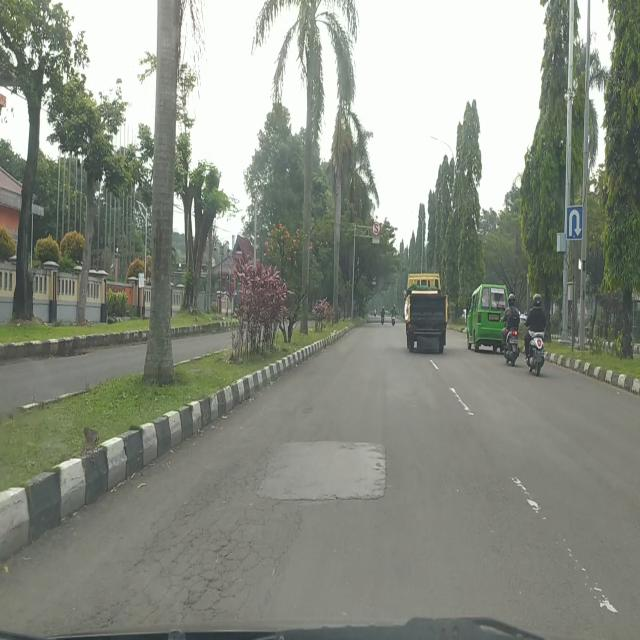Drain Hole: (88, 458, 294, 627)
